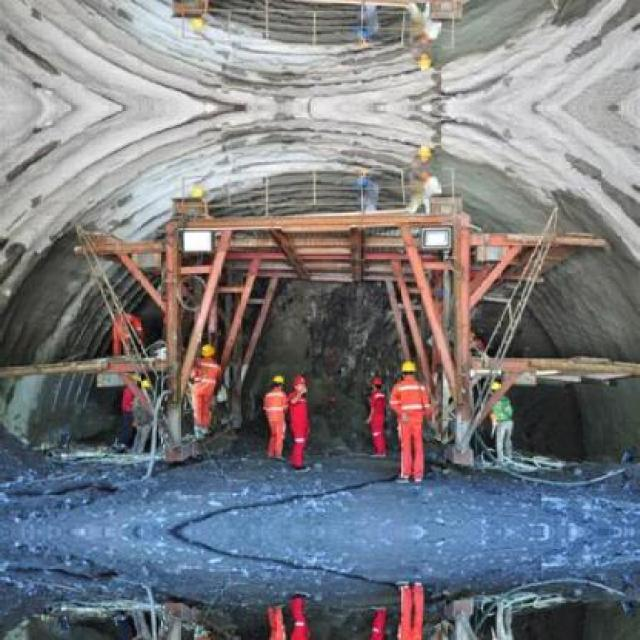helmet: (396, 357, 419, 382), (193, 340, 216, 362), (267, 370, 287, 393), (290, 370, 310, 393), (414, 141, 432, 164), (414, 52, 432, 74), (369, 372, 385, 391)
